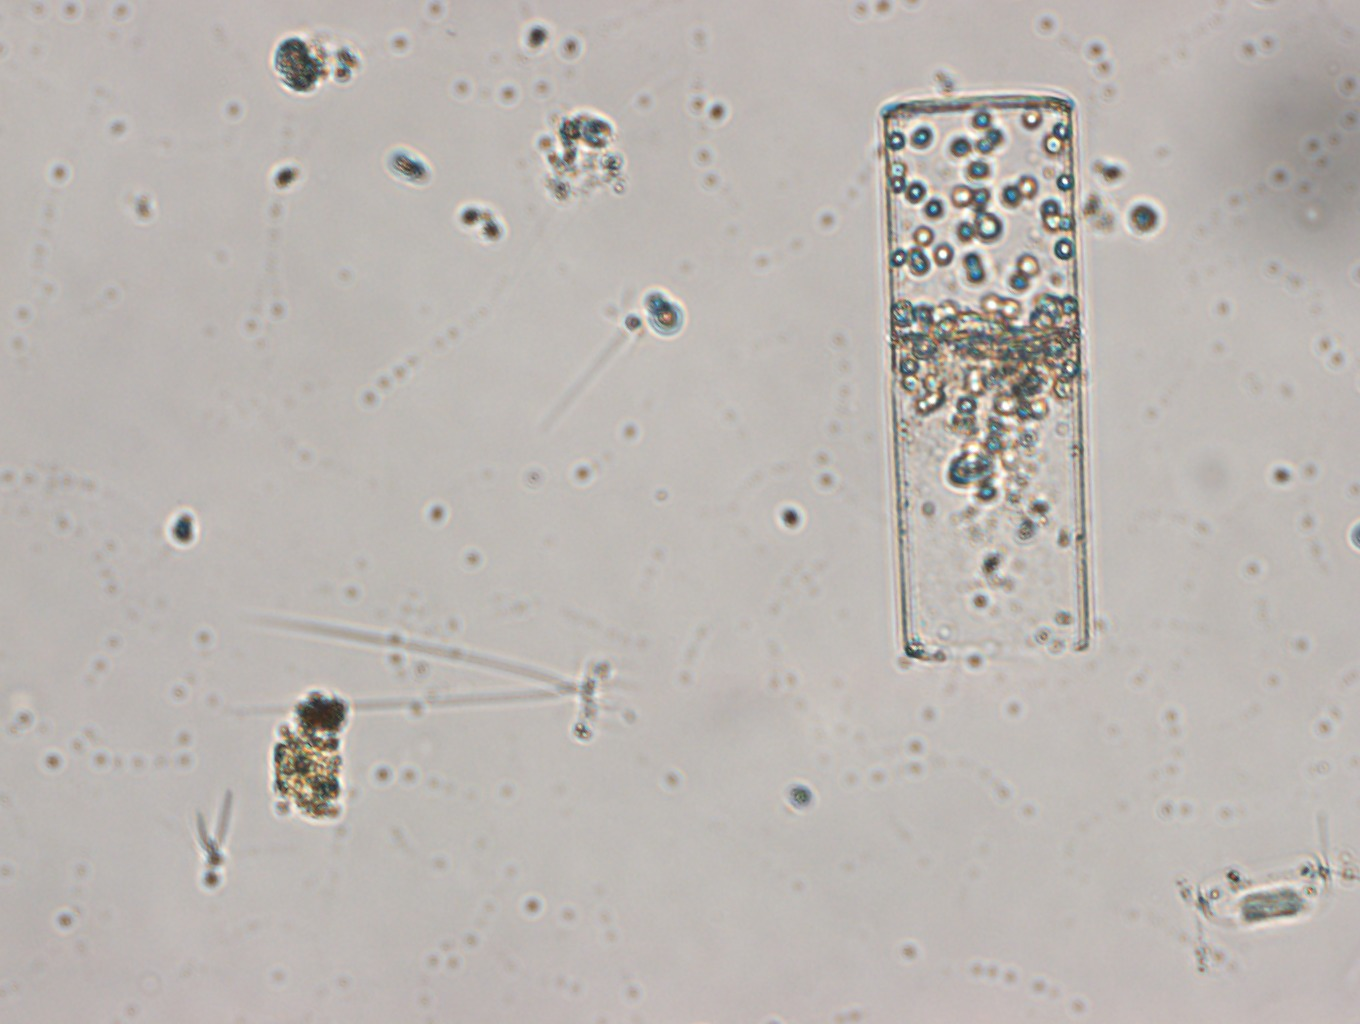guinardia flaccida: (879, 94, 1091, 660)
